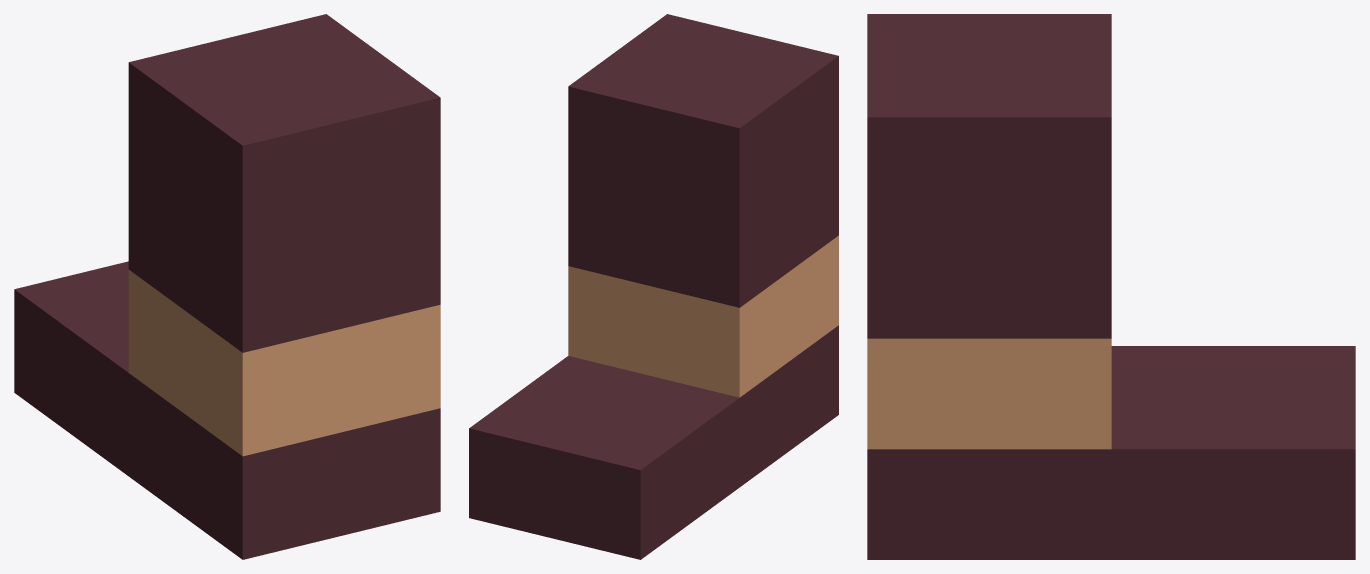
The model's file is anim_player_snowwomen_leg.obj.
3 views of the same model, side by side, from view 1: azimuth 30°, elevation 25°; view 2: azimuth 150°, elevation 25°; view 3: azimuth 270°, elevation 25° (orthographic). The views are drawn at different scales.
Bounding box in the file's own units: 0.2 × 0.4 × 0.4.
1 material, 1 textured.
